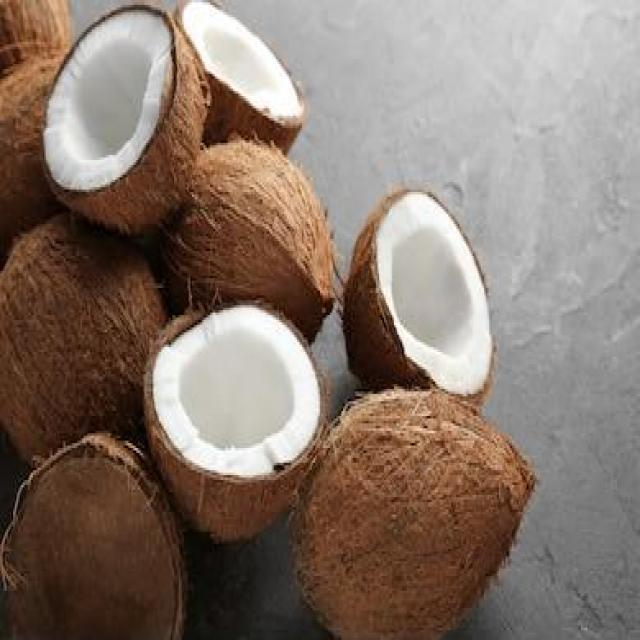coconut: (306, 391, 531, 640), (143, 305, 319, 540), (0, 220, 150, 445), (43, 3, 192, 228), (343, 184, 503, 388), (195, 136, 339, 326), (187, 0, 305, 141)
